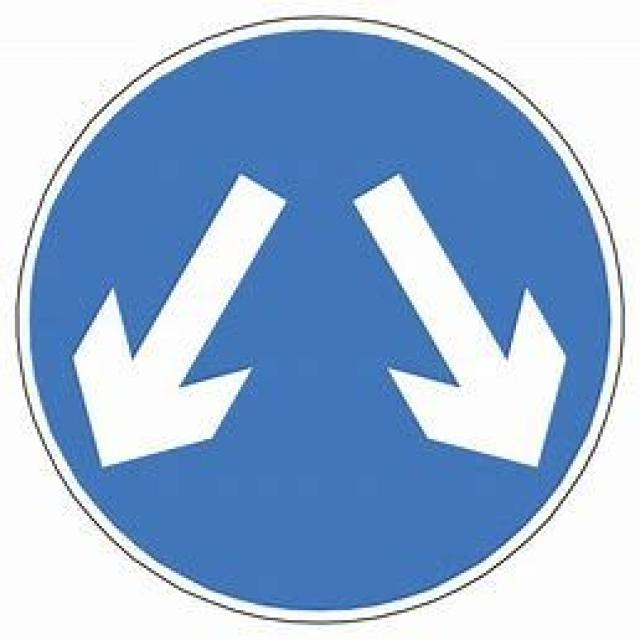PASS_EITHER_SIDE: (30, 27, 605, 608)
